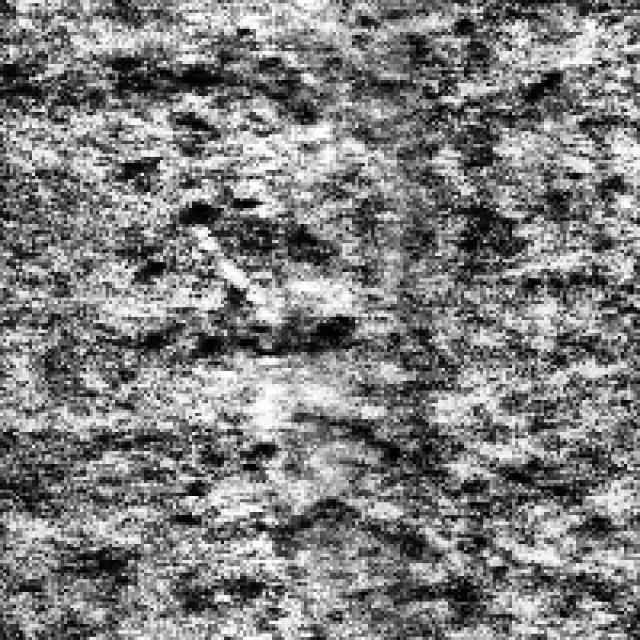Crazing: (134, 54, 288, 221)
